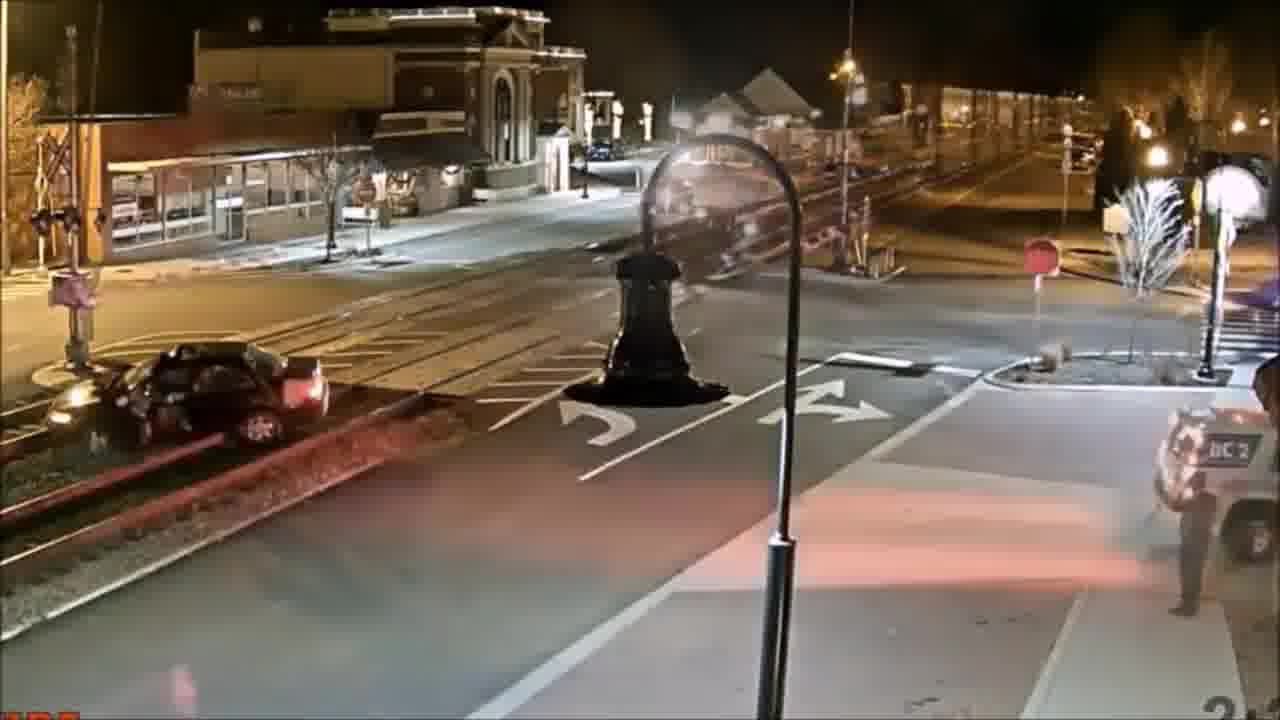crossing railway track: (43, 329, 327, 474)
